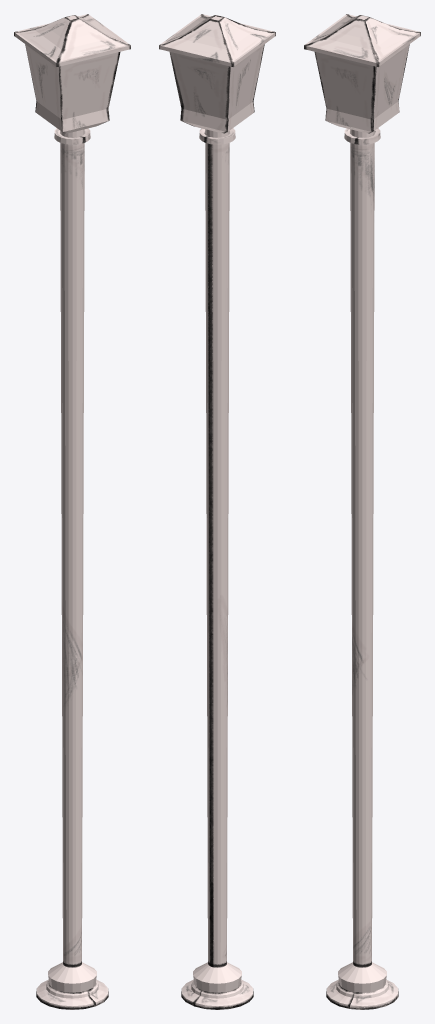
File: lampadaire.fbx
3 views of the same model, side by side, from view 1: azimuth 30°, elevation 25°; view 2: azimuth 150°, elevation 25°; view 3: azimuth 330°, elevation 25° (orthographic).
Visible parts, largest first — view 1: Lampadaire; view 2: Lampadaire; view 3: Lampadaire.
Part boxes in pixels (box(x1,y1,x2,y2)): Lampadaire: box(14, 14, 130, 1009); Lampadaire: box(159, 14, 275, 1009); Lampadaire: box(304, 14, 420, 1009).
Size of the model in its own units: 26.11 by 328 by 26.11.
